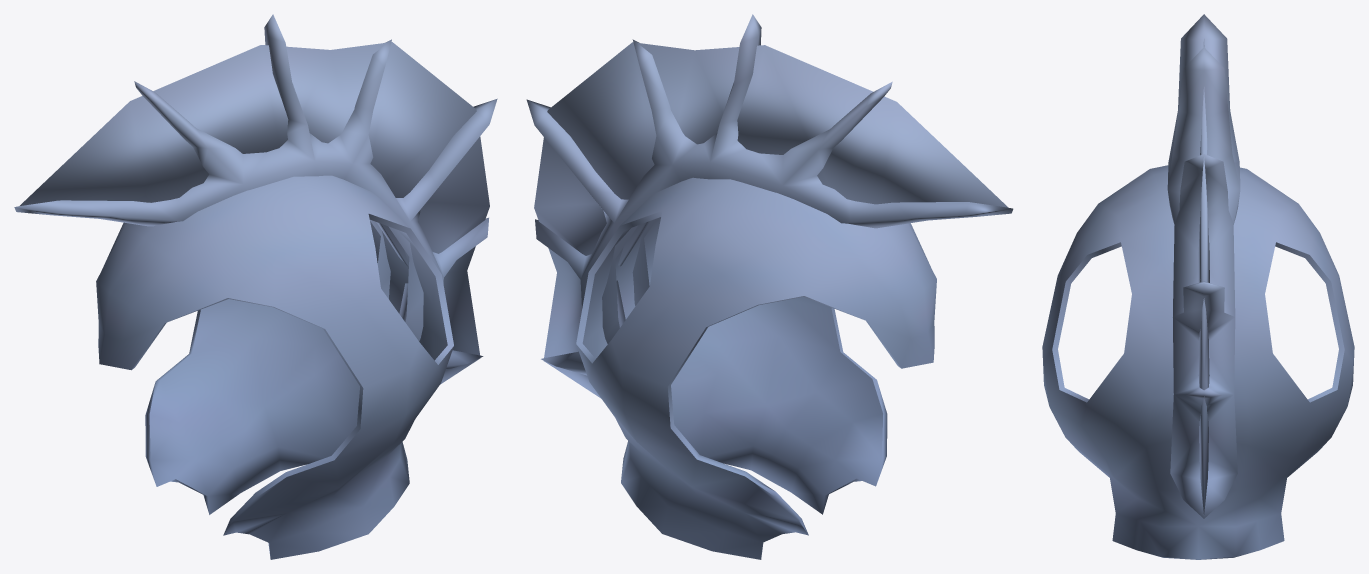
The model's file is helmet_5.fbx.
3 views of the same model, side by side, from view 1: azimuth 30°, elevation 25°; view 2: azimuth 150°, elevation 25°; view 3: azimuth 270°, elevation 25° (orthographic). The views are drawn at different scales.
Visible parts, largest first — view 1: _SMD_root_.001; view 2: _SMD_root_.001; view 3: _SMD_root_.001.
Boxes of the visible parts, box(x1,y1,x2,y2) form: _SMD_root_.001: box(14, 14, 497, 559); _SMD_root_.001: box(526, 14, 1013, 559); _SMD_root_.001: box(1042, 14, 1354, 559).
Size of the model in its own units: 510 by 516 by 300.
